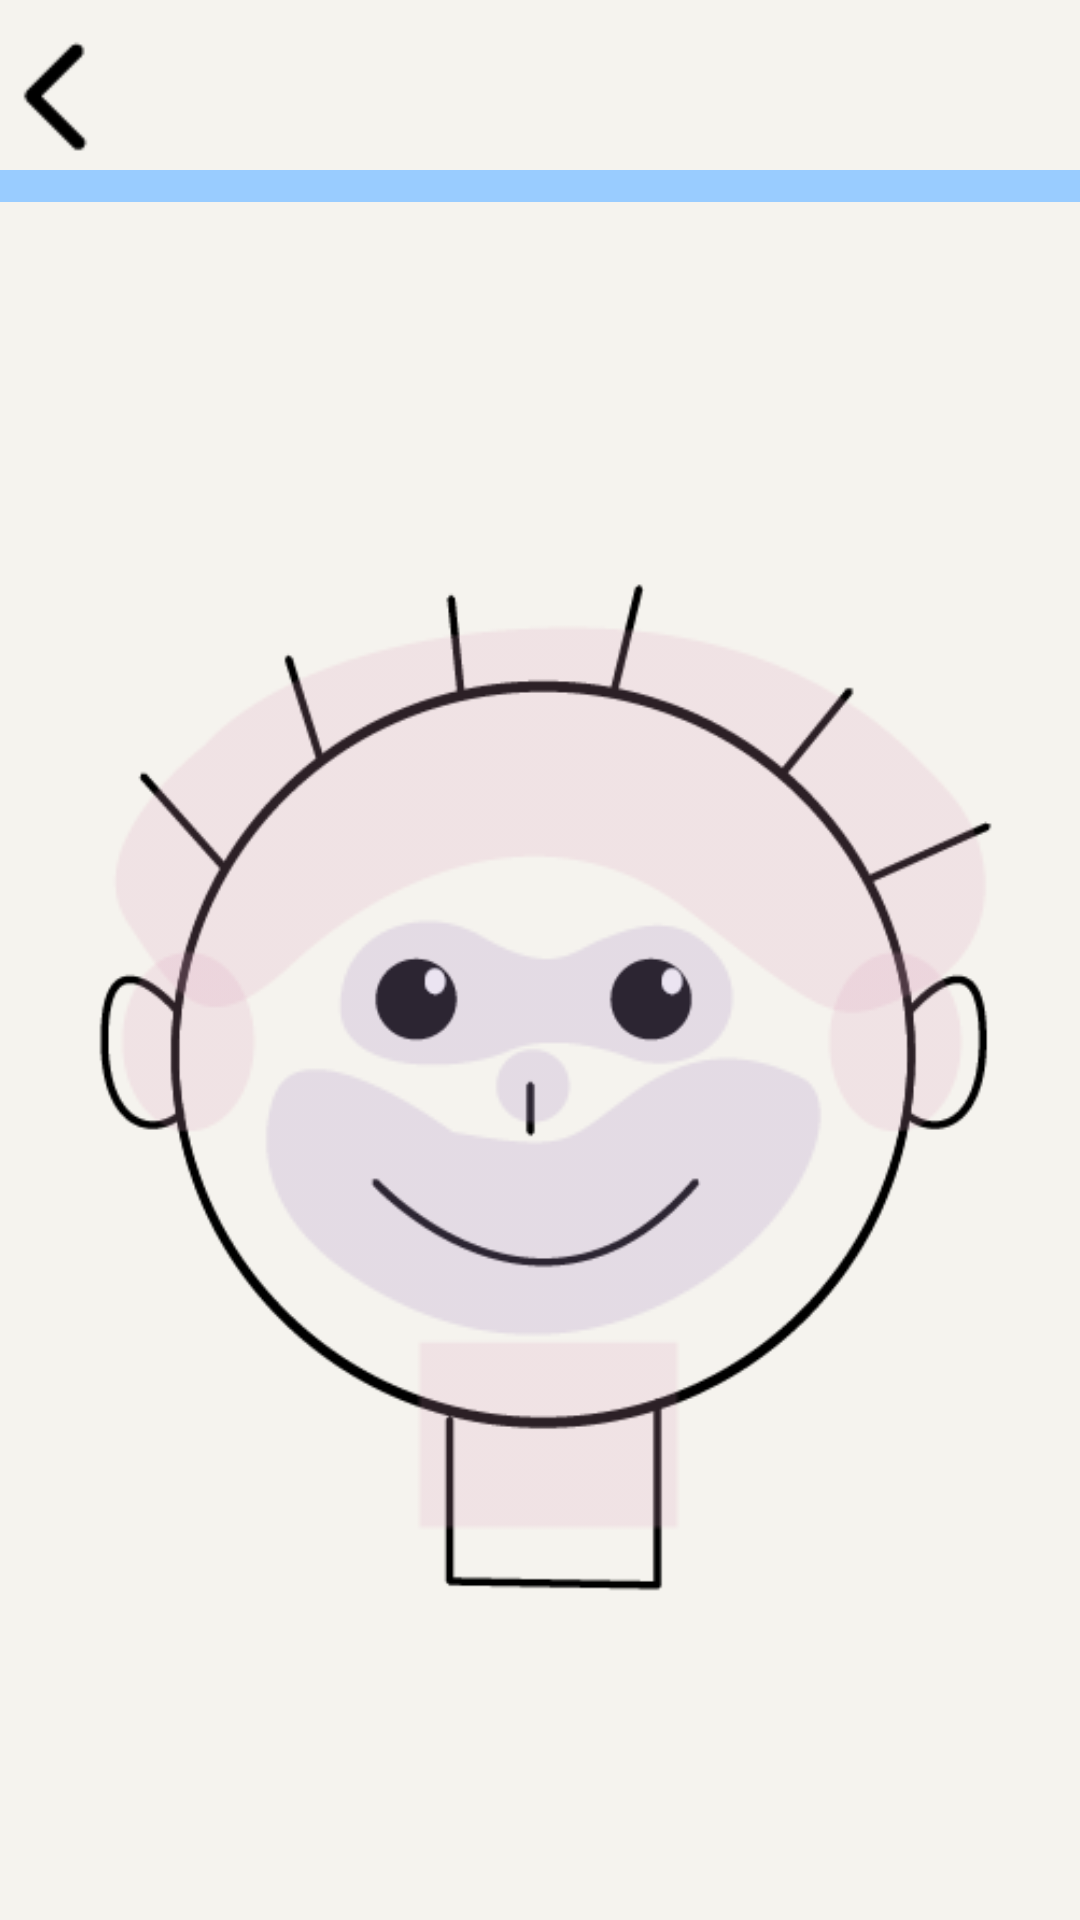

Screen size 1080×1920. Icon name, then its center in pixels as [x,y]:
back: [55,96]
